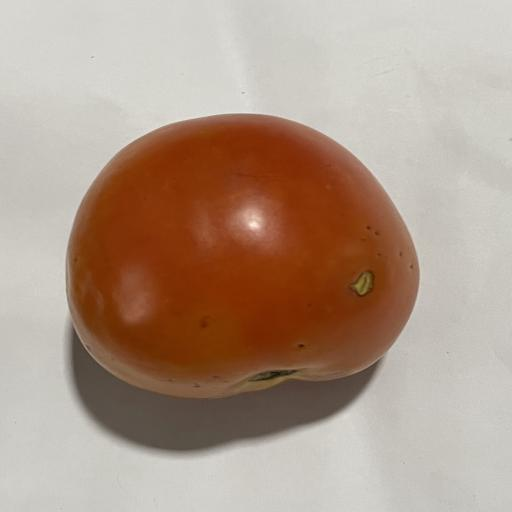unripe: (66, 114, 419, 398)
